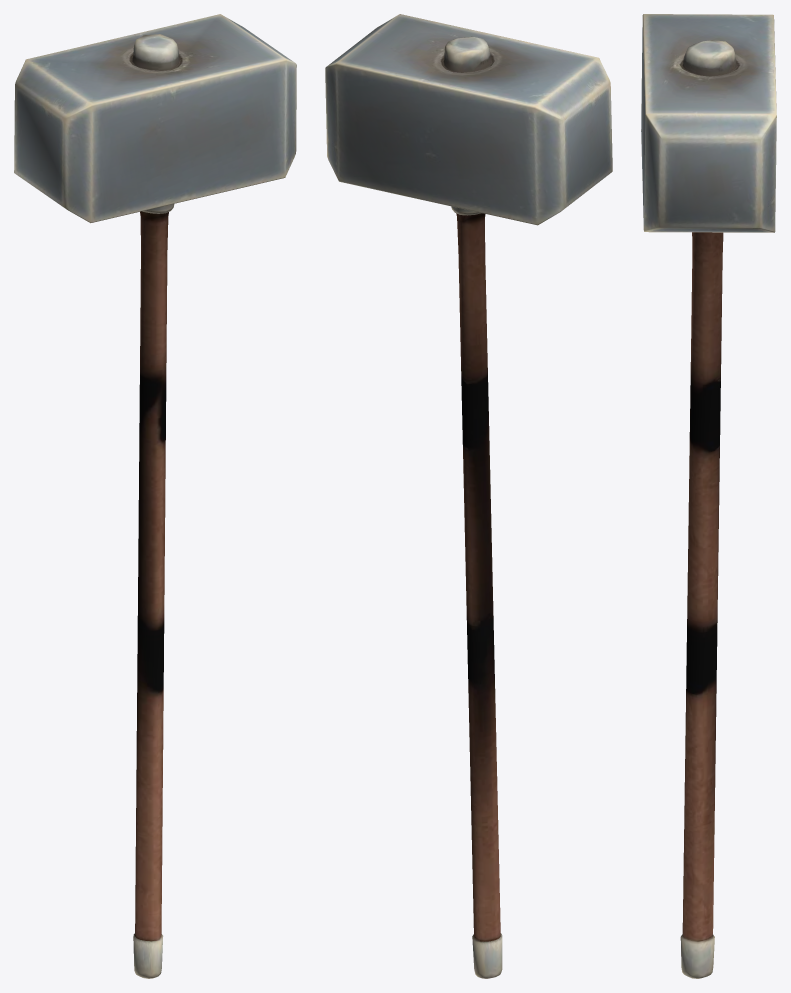
The model's file is Maul_1.glb.
The picture shows the model from 3 angles, left to right: view 1: azimuth 30°, elevation 25°; view 2: azimuth 150°, elevation 25°; view 3: azimuth 270°, elevation 25°; orthographic projection.
Parts seen in each view (by area): view 1: maul_low.001; view 2: maul_low.001; view 3: maul_low.001.
Boxes of the visible parts, left/top/right/bottom form: maul_low.001: left=14, top=14, right=296, bottom=978; maul_low.001: left=325, top=14, right=612, bottom=978; maul_low.001: left=641, top=14, right=776, bottom=978.
Size of the model in its own units: 0.9797 by 3.67 by 0.4821.
Materials: 1 (1 with a texture image).
